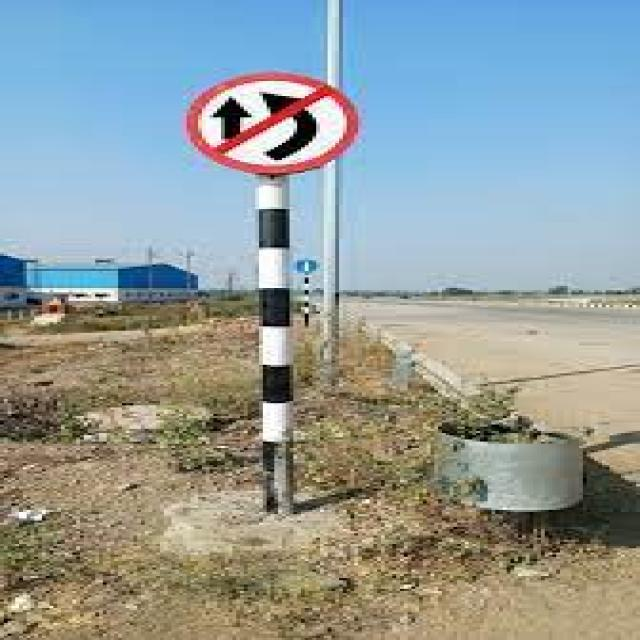overtaking prohibited: (187, 70, 355, 176)
